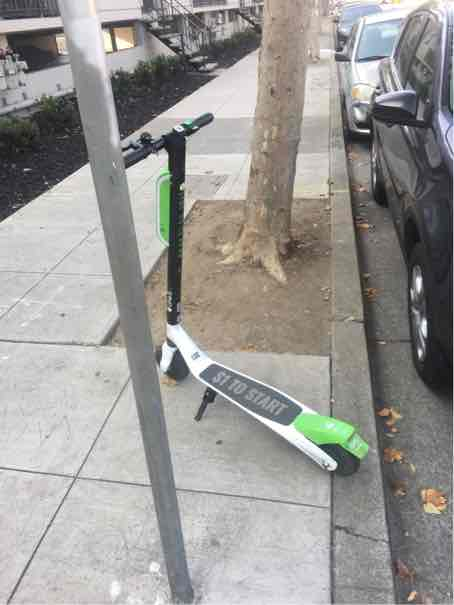scooter: (112, 97, 375, 486)
